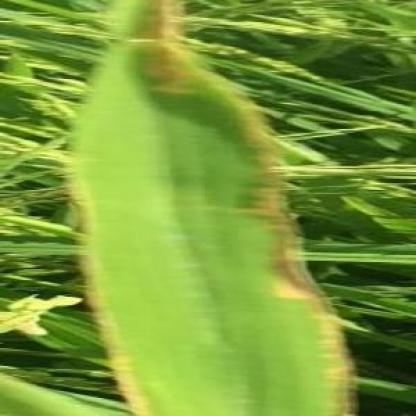Blight: (65, 1, 360, 416)
